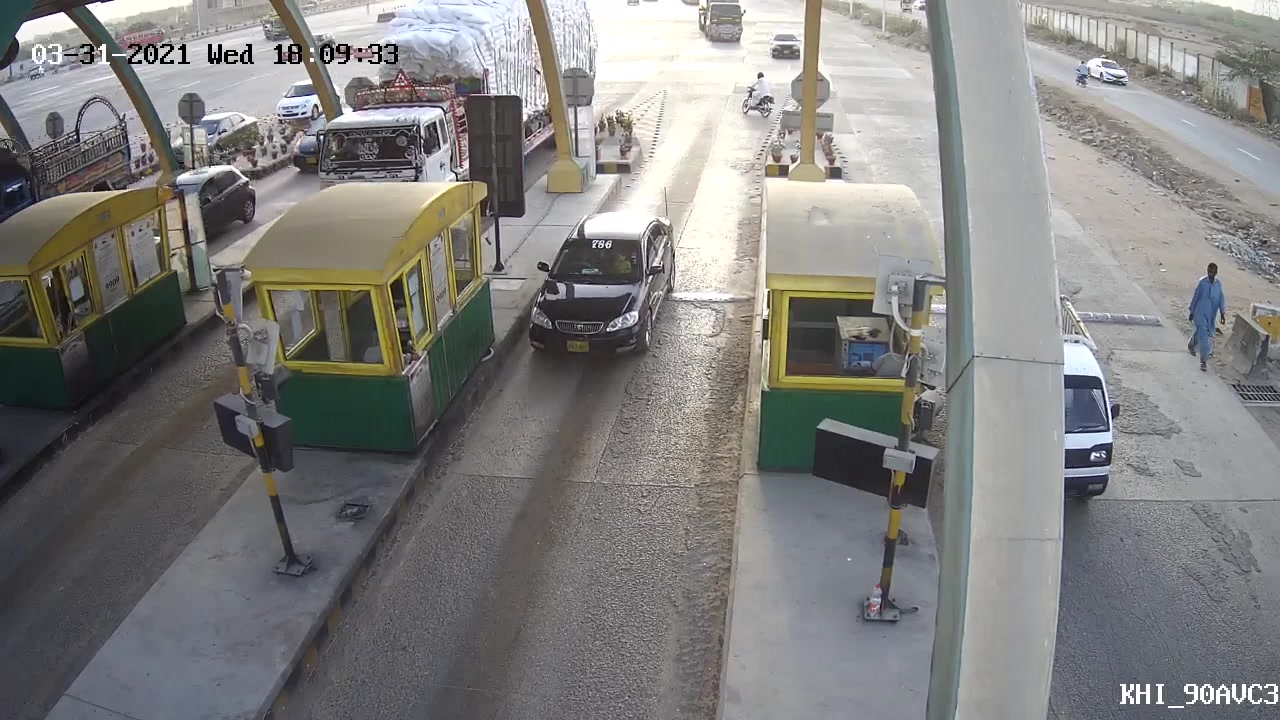F1: (523, 205, 686, 365)
